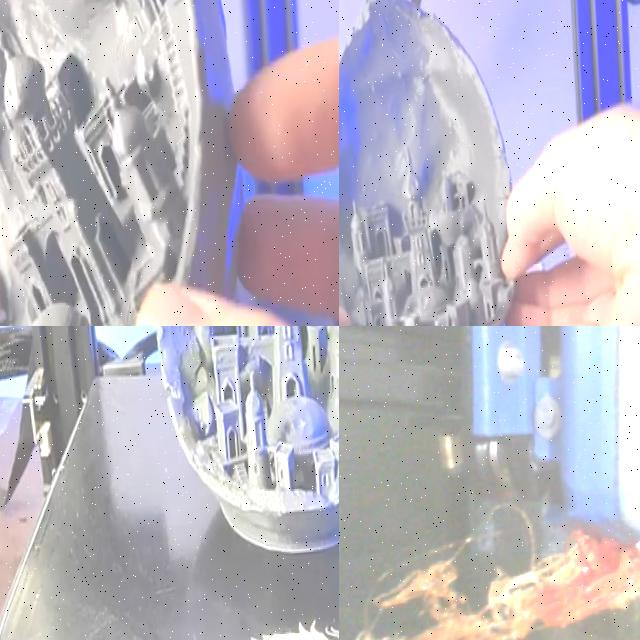spaghetti: (355, 529, 640, 640), (356, 530, 640, 640)
